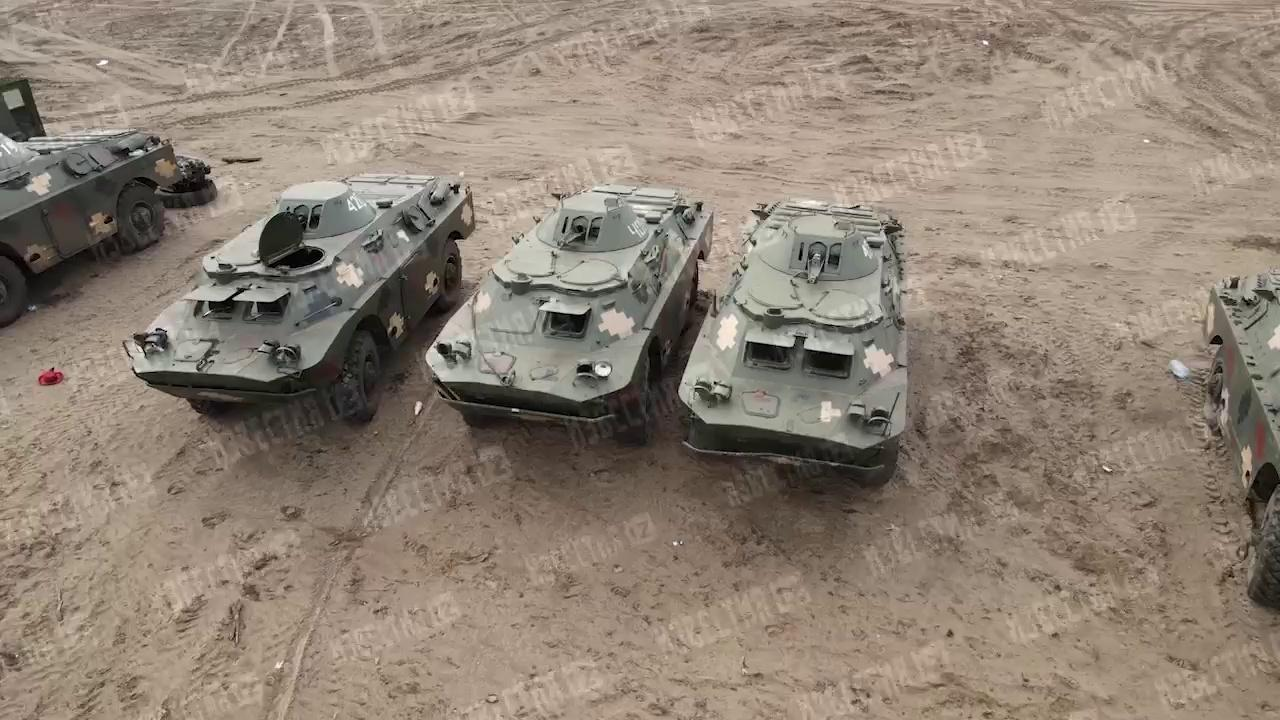tank: (132, 172, 478, 424), (428, 185, 712, 446), (679, 200, 910, 482), (0, 100, 184, 329), (1202, 262, 1280, 622)
